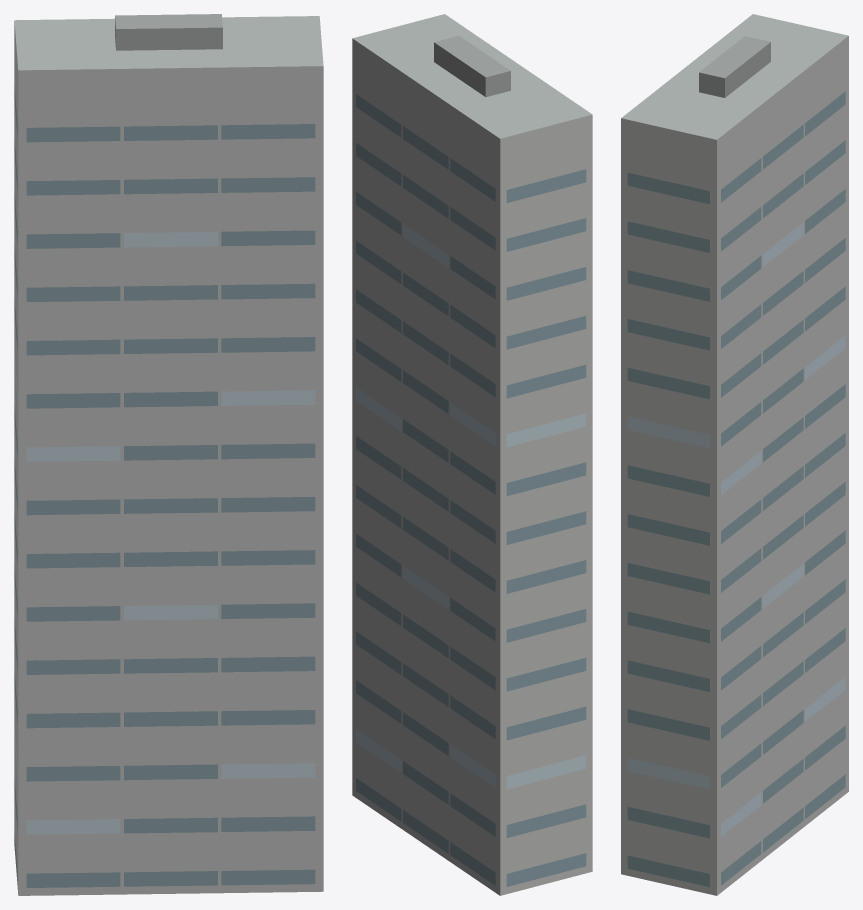
Rendered from fallback-jamsil-ricenz-264.glb.
The picture shows the model from 3 angles, left to right: view 1: azimuth 30°, elevation 25°; view 2: azimuth 150°, elevation 25°; view 3: azimuth 270°, elevation 25°; orthographic projection. The views are drawn at different scales.
Visible parts, largest first — view 1: fallback-jamsil-ricenz-264; view 2: fallback-jamsil-ricenz-264; view 3: fallback-jamsil-ricenz-264.
Boxes of the visible parts, <box> form: fallback-jamsil-ricenz-264: <box>14,14,323,895</box>; fallback-jamsil-ricenz-264: <box>352,14,592,895</box>; fallback-jamsil-ricenz-264: <box>621,14,848,895</box>.
Size of the model in its own units: 32.71 by 94 by 25.01.
